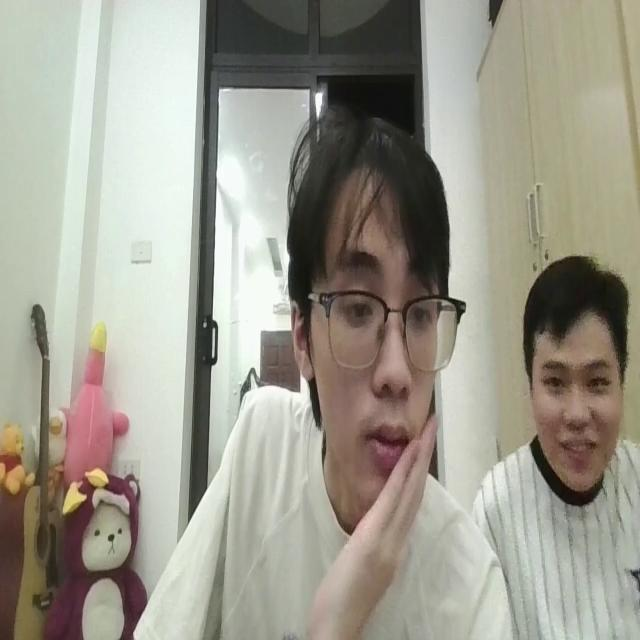extra_person: (481, 252, 640, 639)
student: (123, 104, 509, 640)
